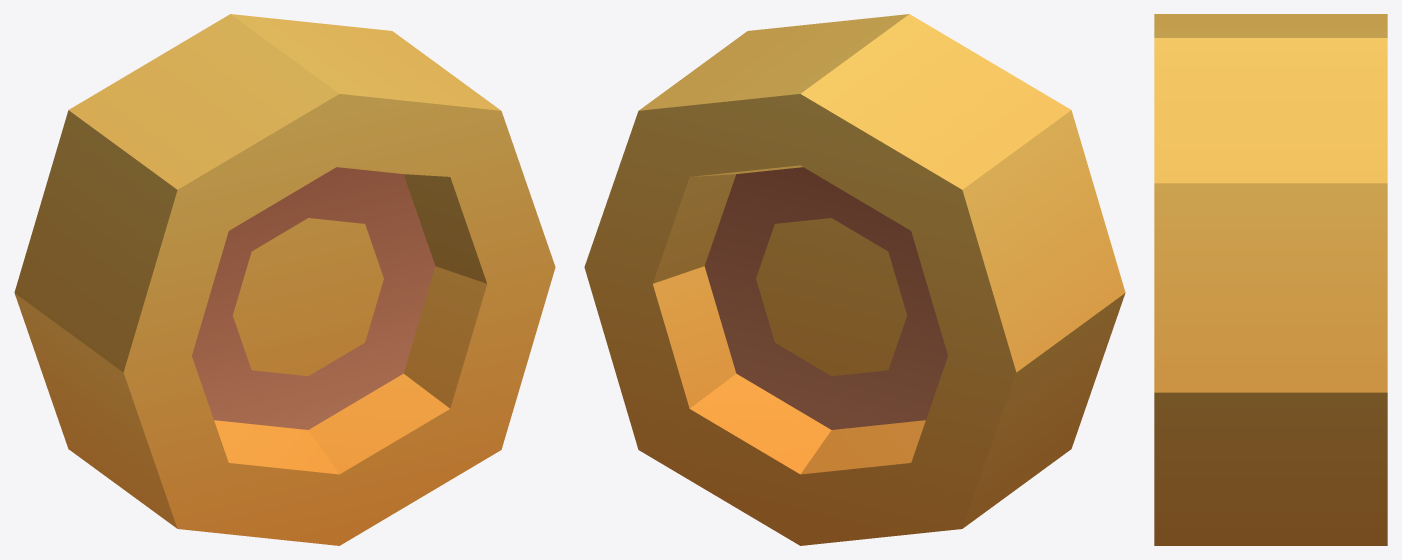
Rendered from coin.glb.
3 views of the same model, side by side, from view 1: azimuth 30°, elevation 25°; view 2: azimuth 150°, elevation 25°; view 3: azimuth 270°, elevation 25° (orthographic). The views are drawn at different scales.
Visible parts, largest first — view 1: coin-gold; view 2: coin-gold; view 3: coin-gold.
Part boxes in pixels (box(x1,y1,x2,y2)): coin-gold: box(14, 14, 555, 545); coin-gold: box(584, 14, 1125, 545); coin-gold: box(1154, 14, 1387, 545).
Bounding box in the file's own units: 0.6 × 0.6 × 0.2625.
1 material, 1 textured.
